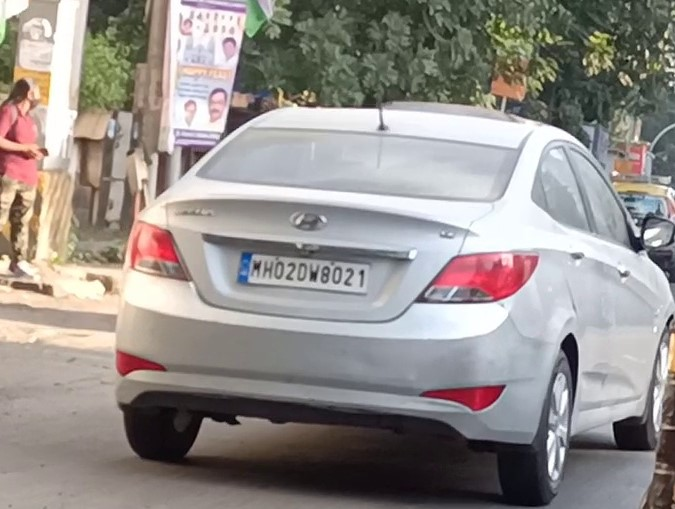MH02DW8021: (237, 252, 372, 295)
